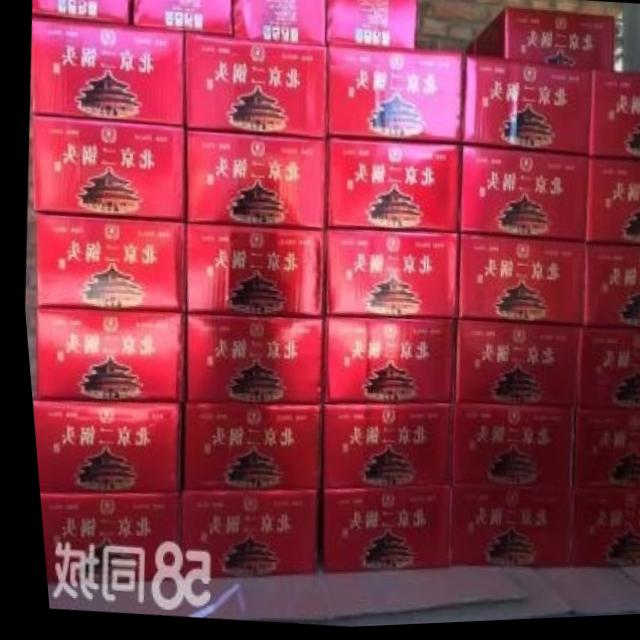box: (27, 17, 185, 128), (30, 115, 182, 224), (181, 32, 325, 142), (31, 212, 181, 315), (29, 304, 181, 403), (181, 128, 325, 230), (25, 396, 176, 493), (324, 48, 462, 149), (179, 225, 320, 320), (320, 138, 458, 235), (458, 59, 590, 160), (172, 403, 313, 497), (453, 147, 586, 246), (317, 230, 453, 324), (174, 315, 315, 405), (451, 235, 581, 332), (166, 492, 309, 577), (32, 493, 169, 581), (308, 487, 441, 577), (313, 404, 445, 493), (315, 318, 448, 405), (446, 325, 572, 412), (440, 408, 567, 494), (440, 487, 561, 570), (460, 12, 614, 76), (556, 492, 640, 572), (561, 412, 640, 494), (573, 246, 640, 337), (567, 332, 640, 415), (581, 160, 640, 250), (325, 0, 417, 56), (586, 74, 640, 163), (230, 0, 324, 48), (129, 0, 232, 37), (31, 0, 128, 28)
